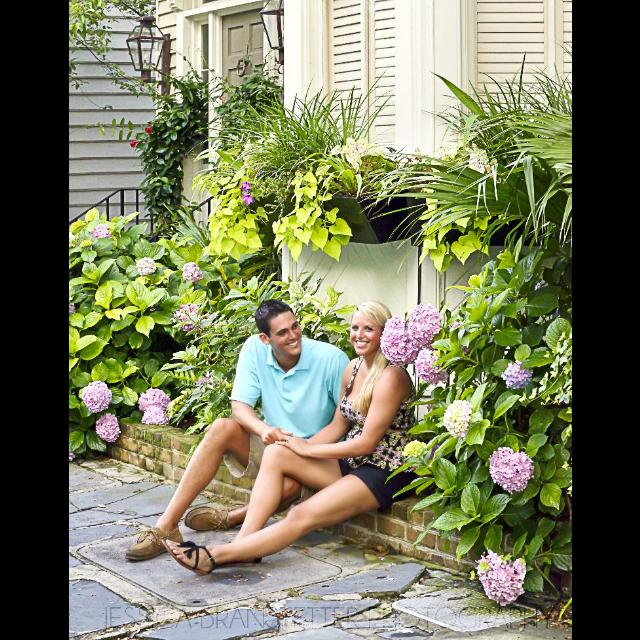Flower: (479, 552, 539, 604), (486, 446, 534, 496), (406, 301, 444, 345), (378, 322, 414, 368), (413, 346, 447, 386), (333, 139, 383, 165), (76, 377, 110, 415), (442, 399, 470, 437), (501, 362, 529, 391), (172, 305, 200, 333), (94, 416, 120, 444), (140, 402, 166, 428), (138, 388, 168, 408), (178, 260, 202, 284), (419, 440, 436, 462), (134, 258, 156, 274), (400, 438, 418, 456), (91, 222, 109, 238), (241, 194, 253, 206), (148, 125, 154, 135), (132, 142, 140, 146), (240, 184, 248, 188)
